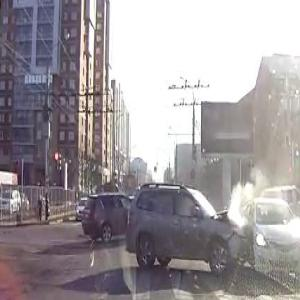low_impact: (125, 170, 300, 290)
